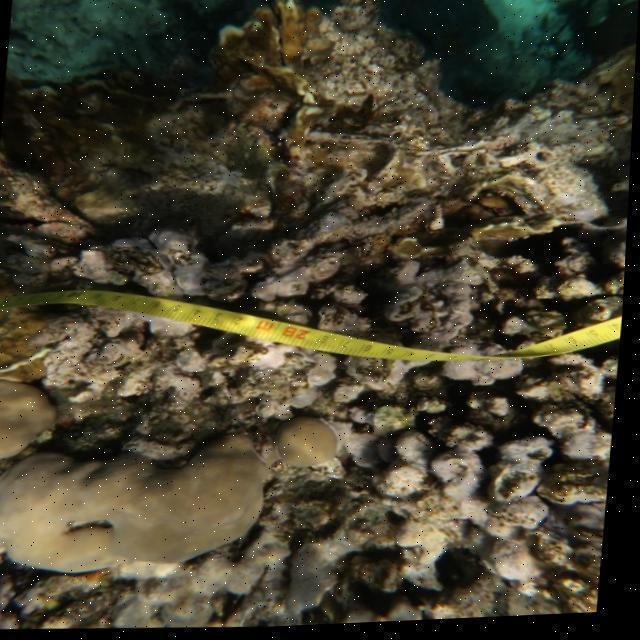Healthy Coral: (1, 421, 271, 585), (0, 373, 76, 475), (269, 415, 369, 477)
